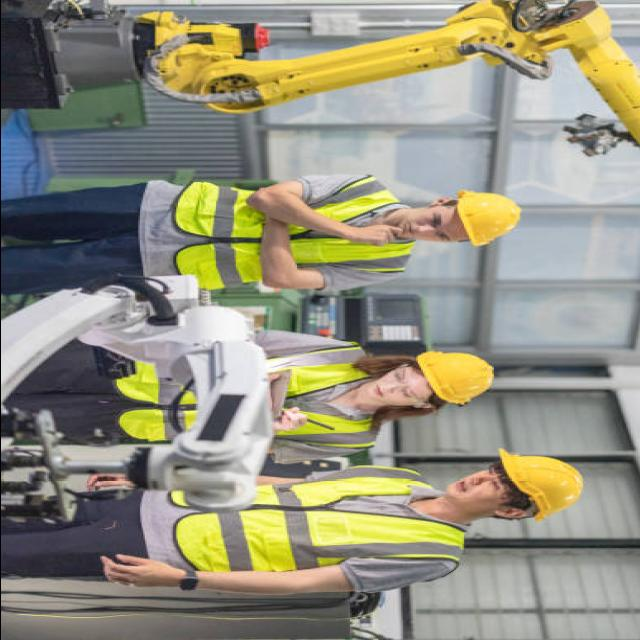Robotic-arm: (136, 2, 640, 162), (0, 278, 273, 522)
